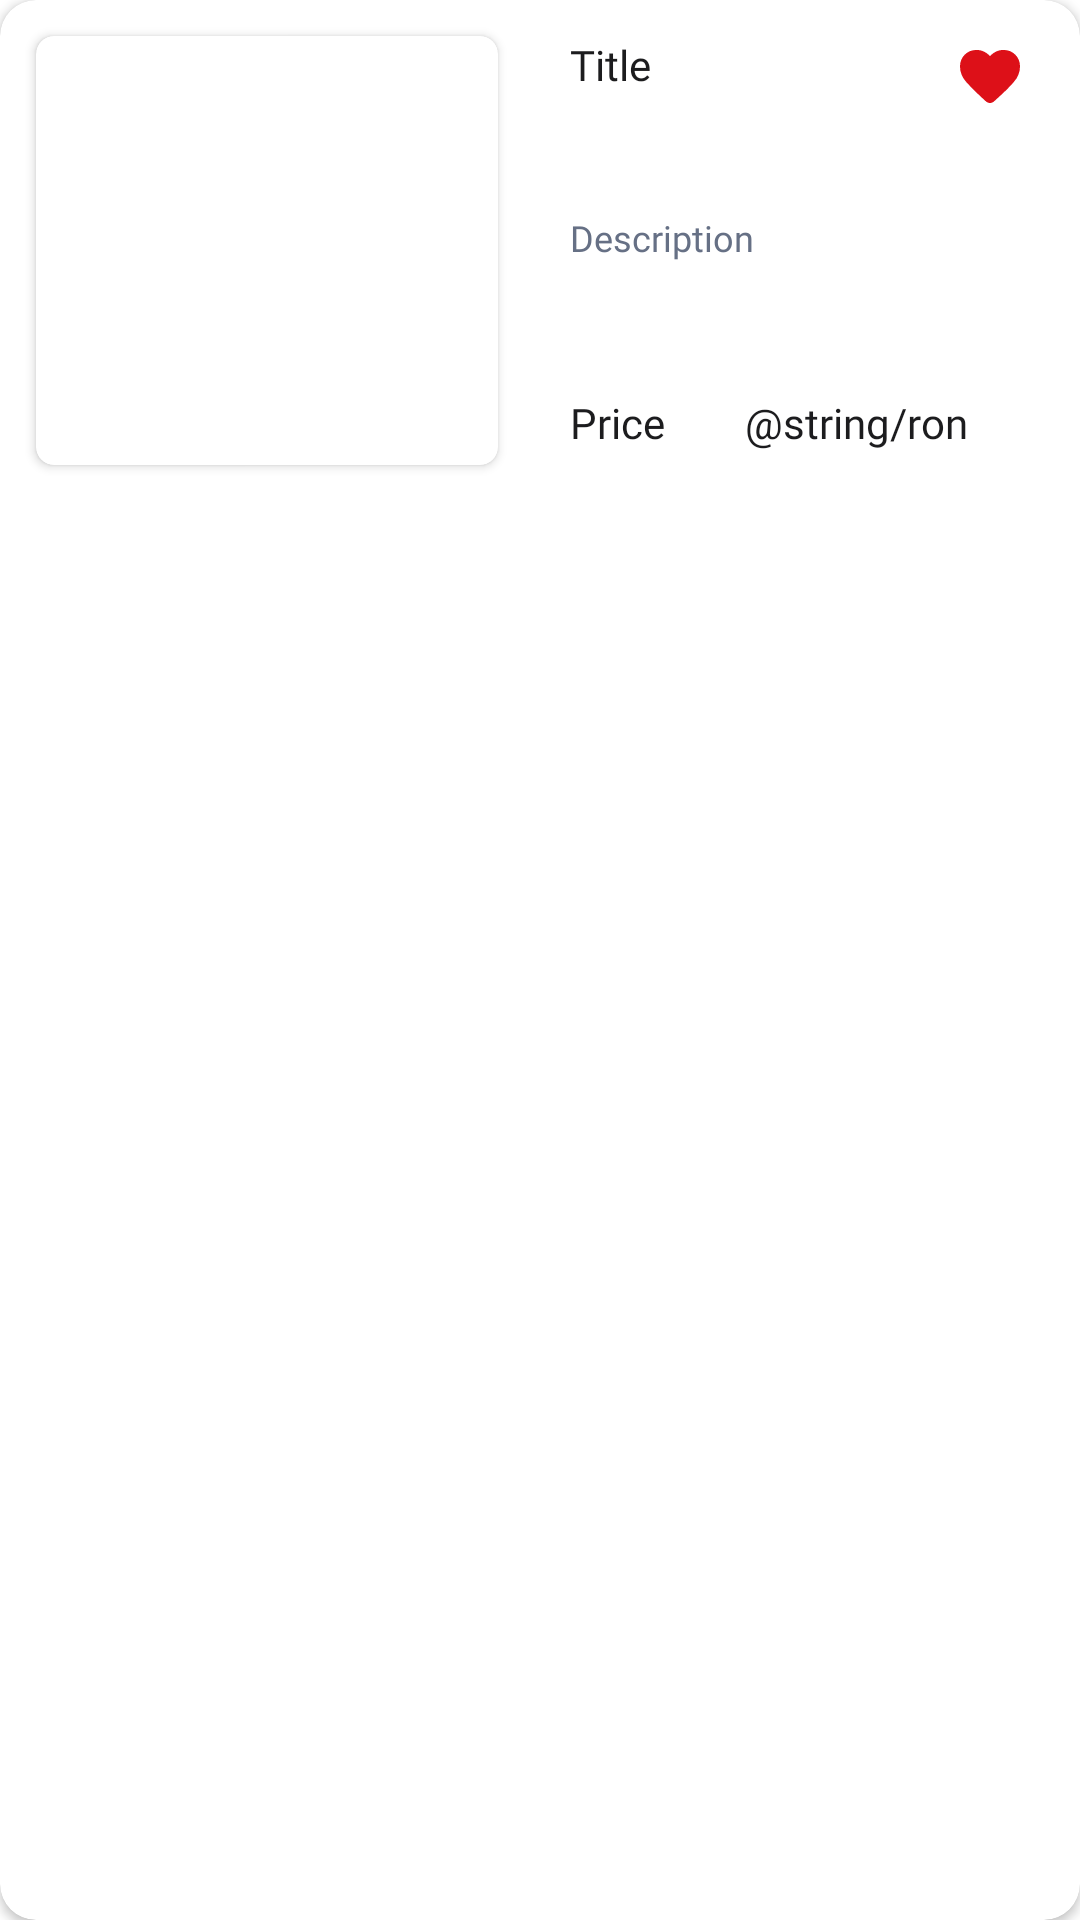

Screen size 1080 x 1920. Icon name, then its box in pixels as (x1, y1, x2, y2):
full hearth: (960, 50, 1020, 103)
